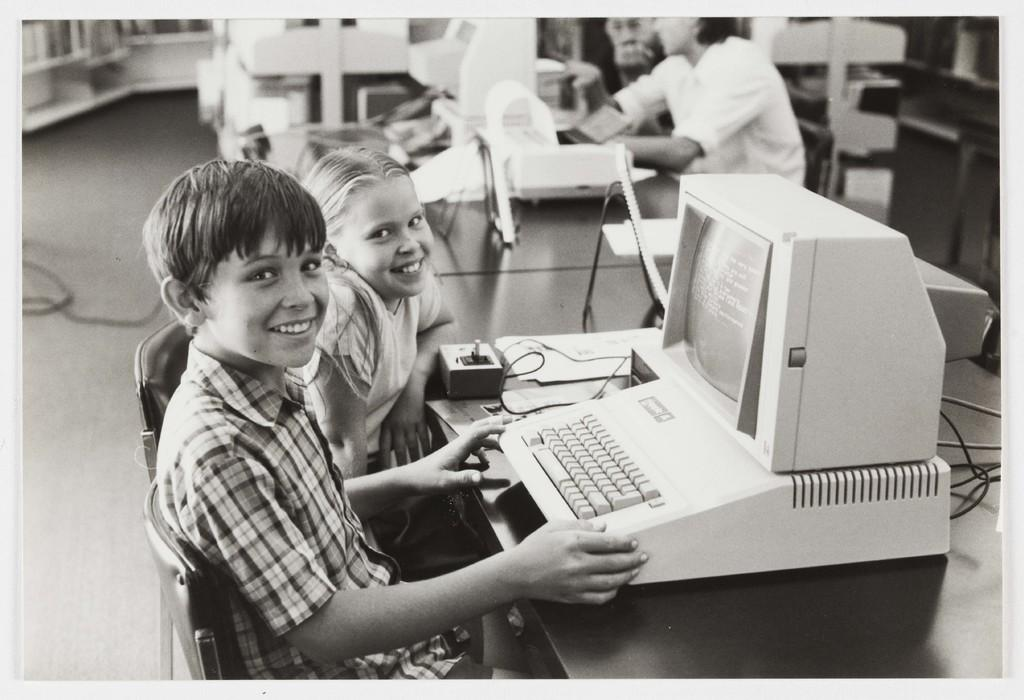Computer-keyboard: (513, 405, 669, 516)
